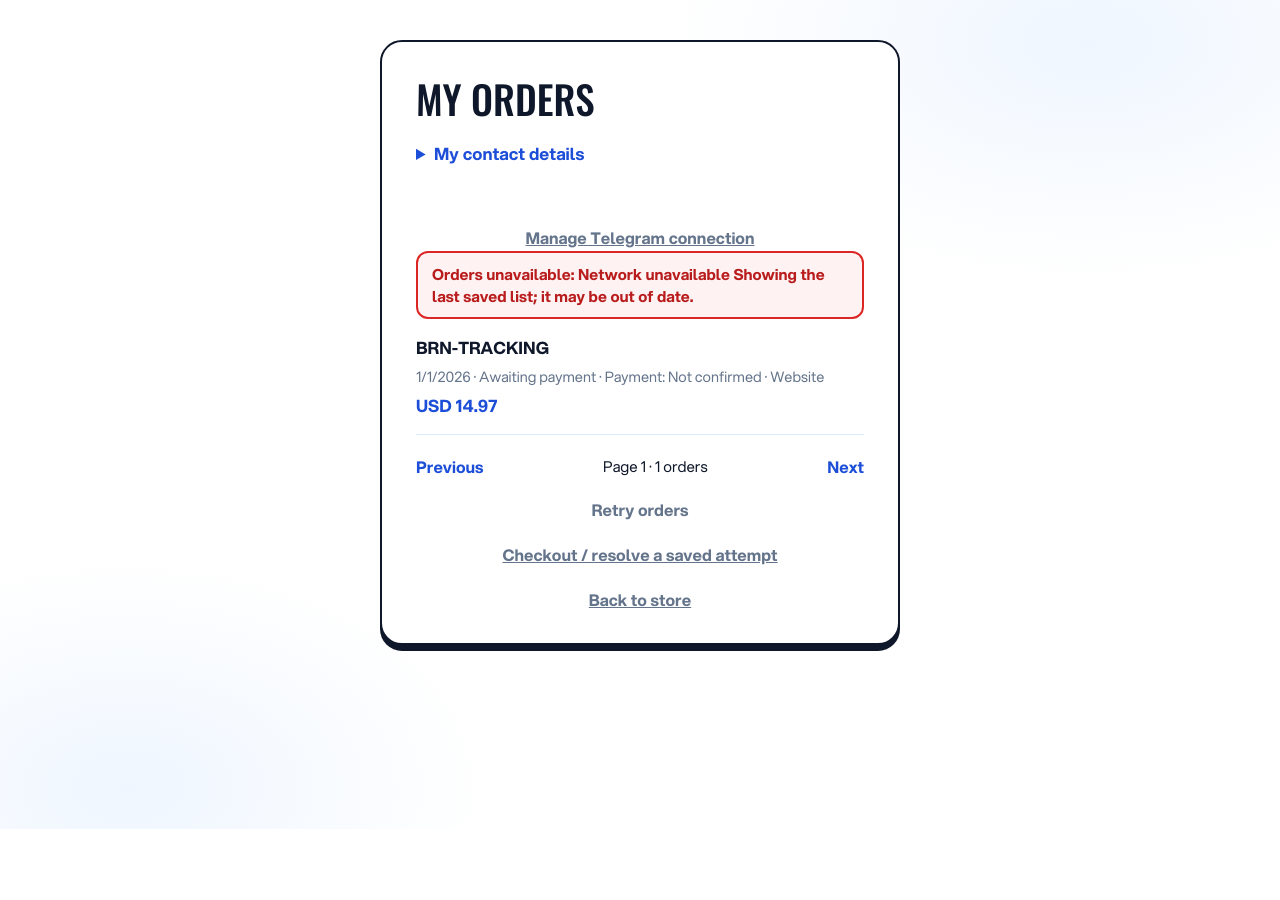
Test case: customer order tracking through the real query hook › keeps a stale order list visible with a working retry after a failed refresh
Expected: the message shows "Showing the last saved list; it may be out of date.", [432,263,825,307]
Expected: the link "BRN-TRACKING" is shown, [416,319,864,434]
What coordinates should you click on to do the following:
click the button "Retry orders"
I would click on:
 (640, 510)
Its box is [588,496,692,523].
Wait 10 ms
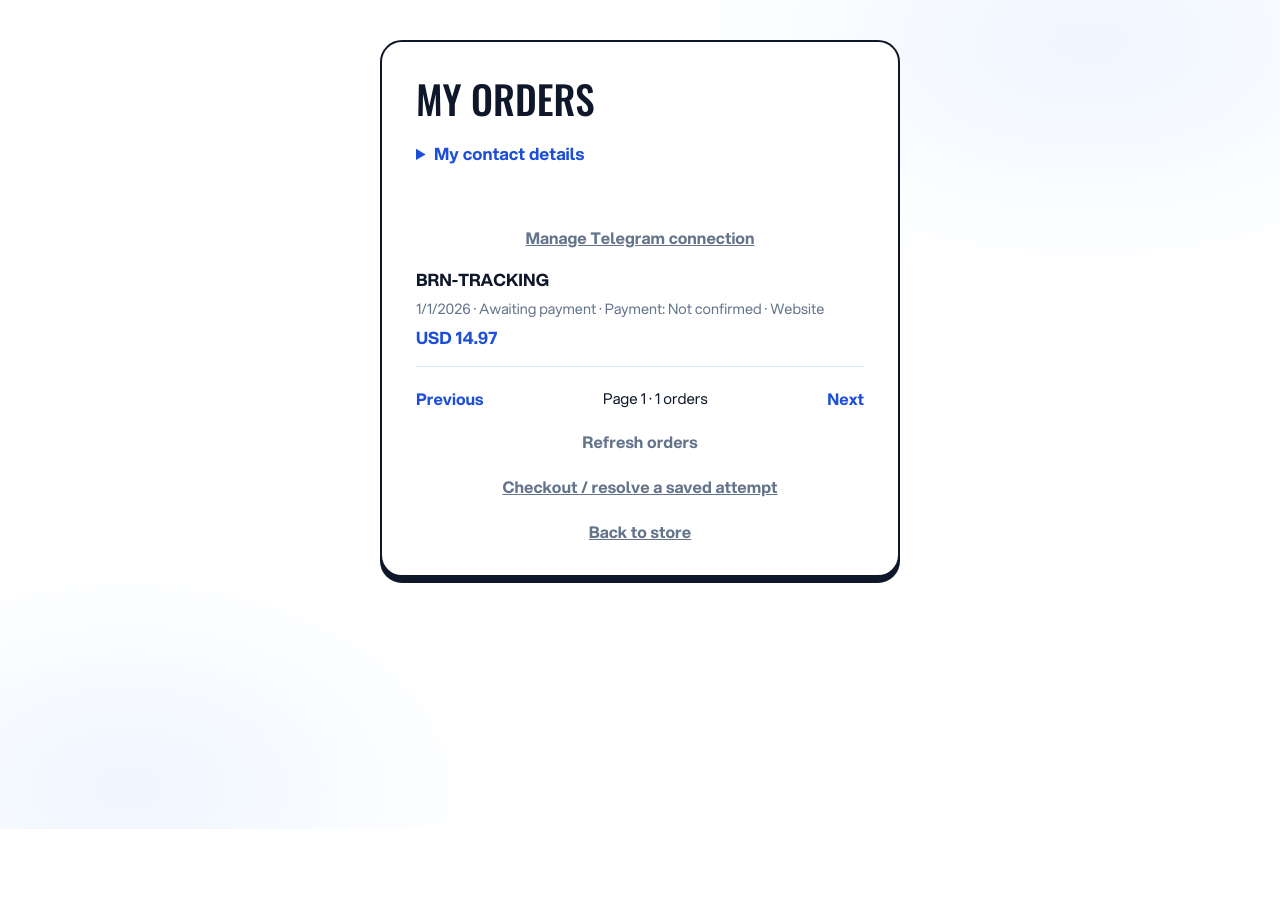
Result: the message is gone
